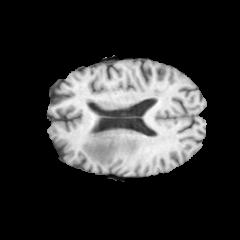glioma: (83, 130, 142, 165)
